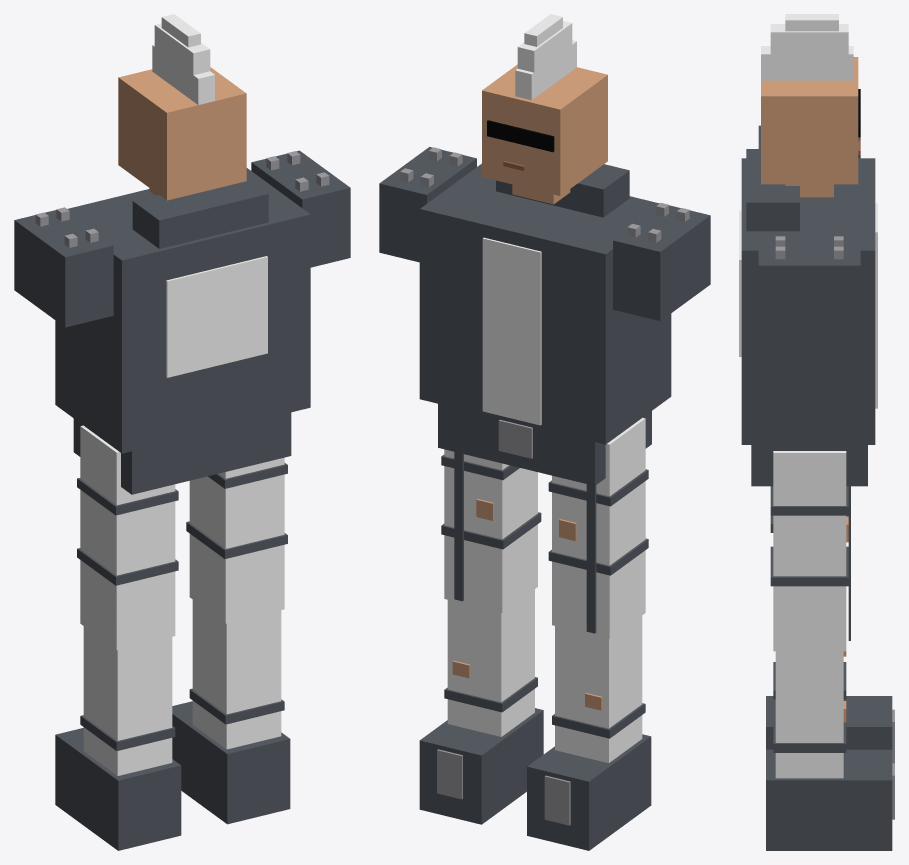
The model's file is PUNK.gltf.
3 renders of one model, left to right at view 1: azimuth 30°, elevation 25°; view 2: azimuth 150°, elevation 25°; view 3: azimuth 270°, elevation 25°, orthographic.
Parts seen in each view (by area): view 1: PUNK; view 2: PUNK; view 3: PUNK.
Part boxes in pixels (x1=…): PUNK: x1=14, y1=14, x2=350, y2=850; PUNK: x1=379, y1=14, x2=710, y2=850; PUNK: x1=739, y1=14, x2=894, y2=850.
Bounding box in the file's own units: 0.68 × 1.79 × 0.32.
